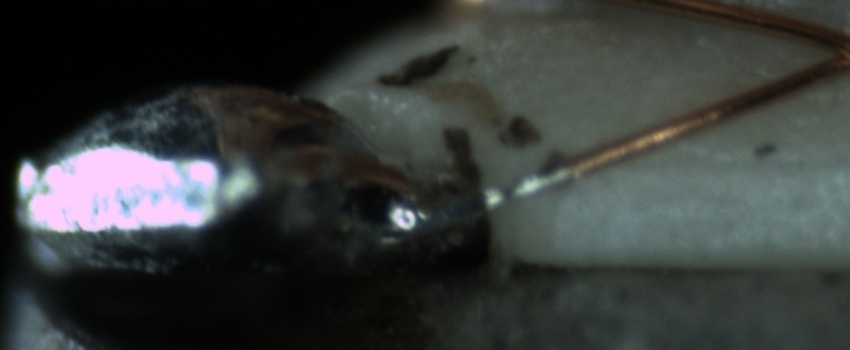CL: (803, 18, 849, 82)
DL: (618, 128, 847, 203)
TS: (384, 163, 572, 245)
TTCW: (379, 134, 623, 238)
